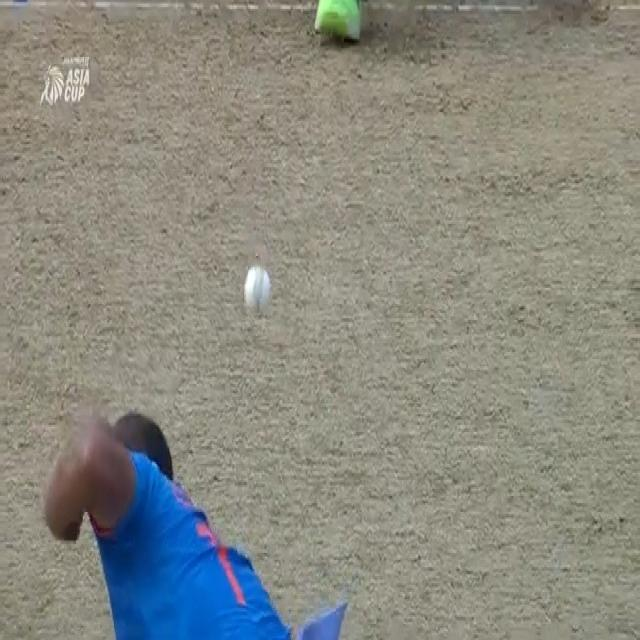Cricket ball: (243, 262, 272, 318)
